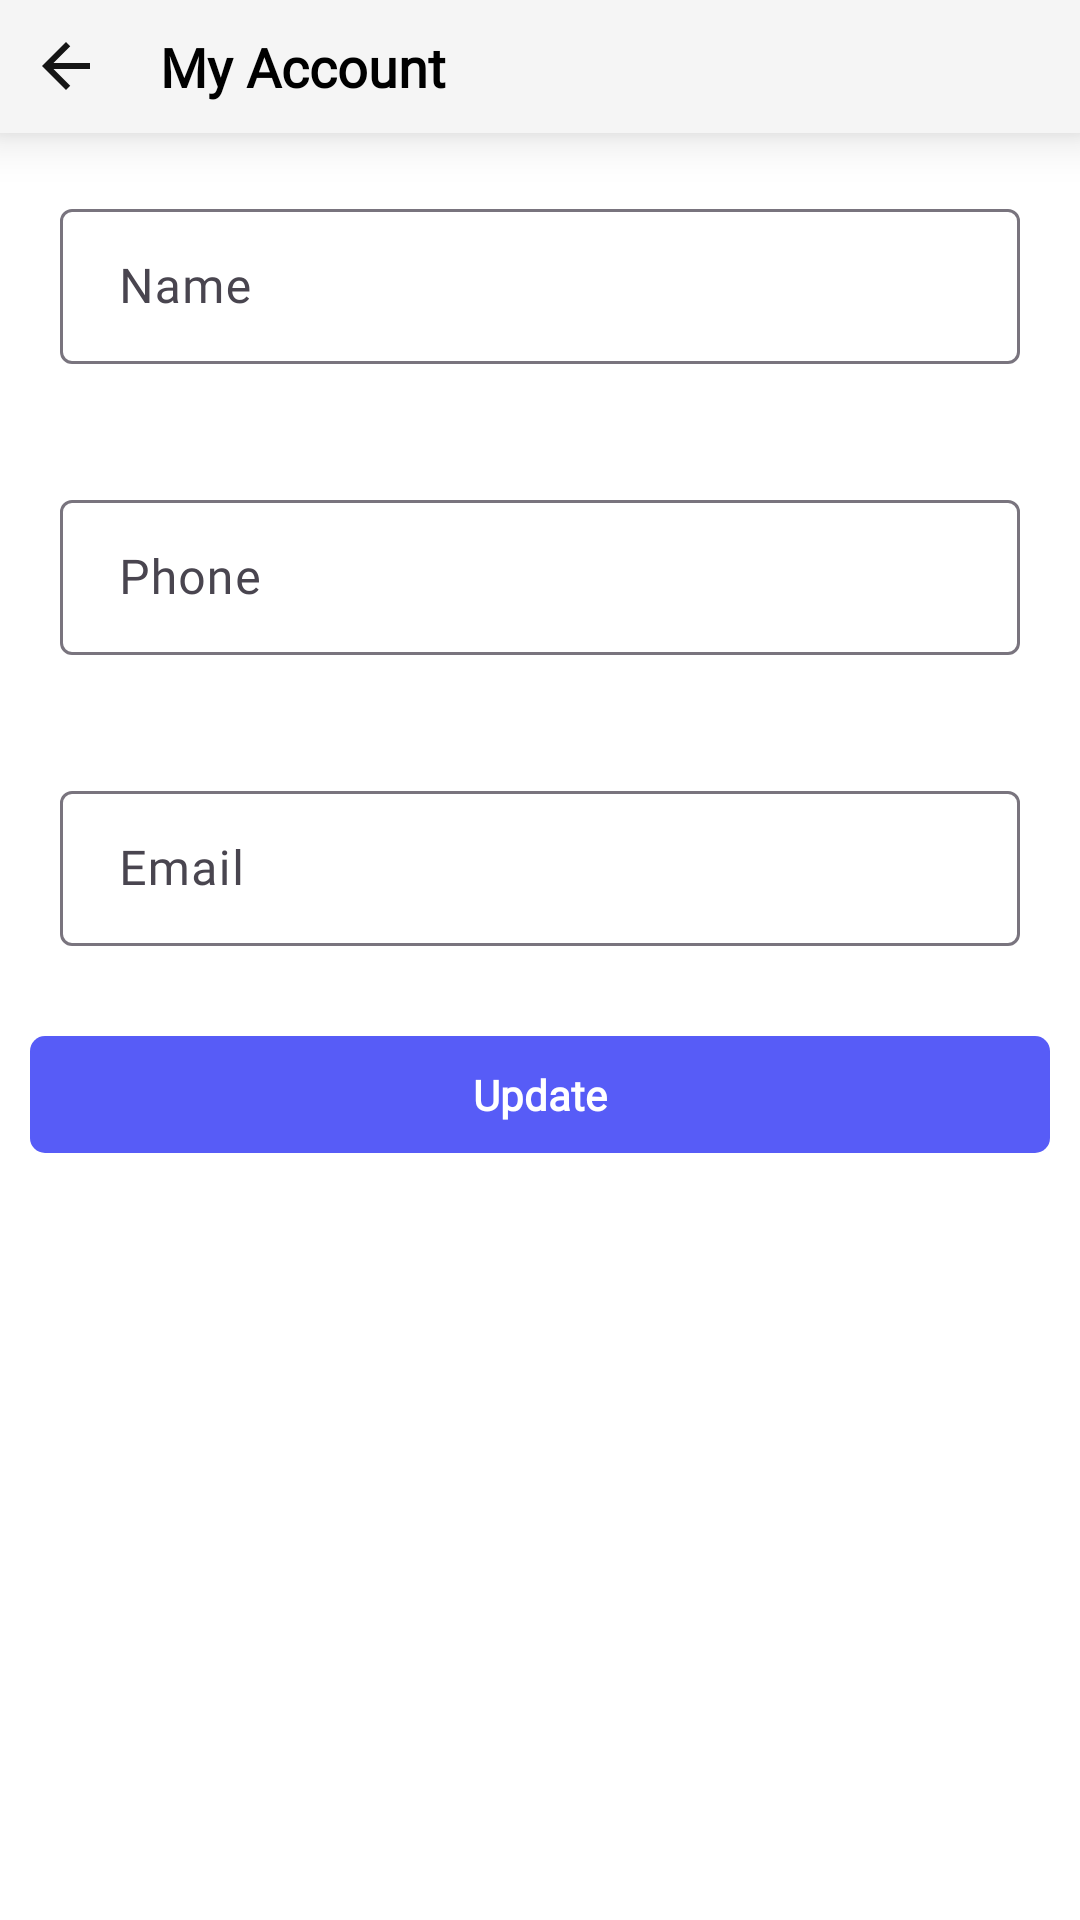

Named icons in this screenshot (1080px×1920px) and their bounding boxes, region(x1, y1, x2, y2):
back: region(42, 42, 90, 90)
